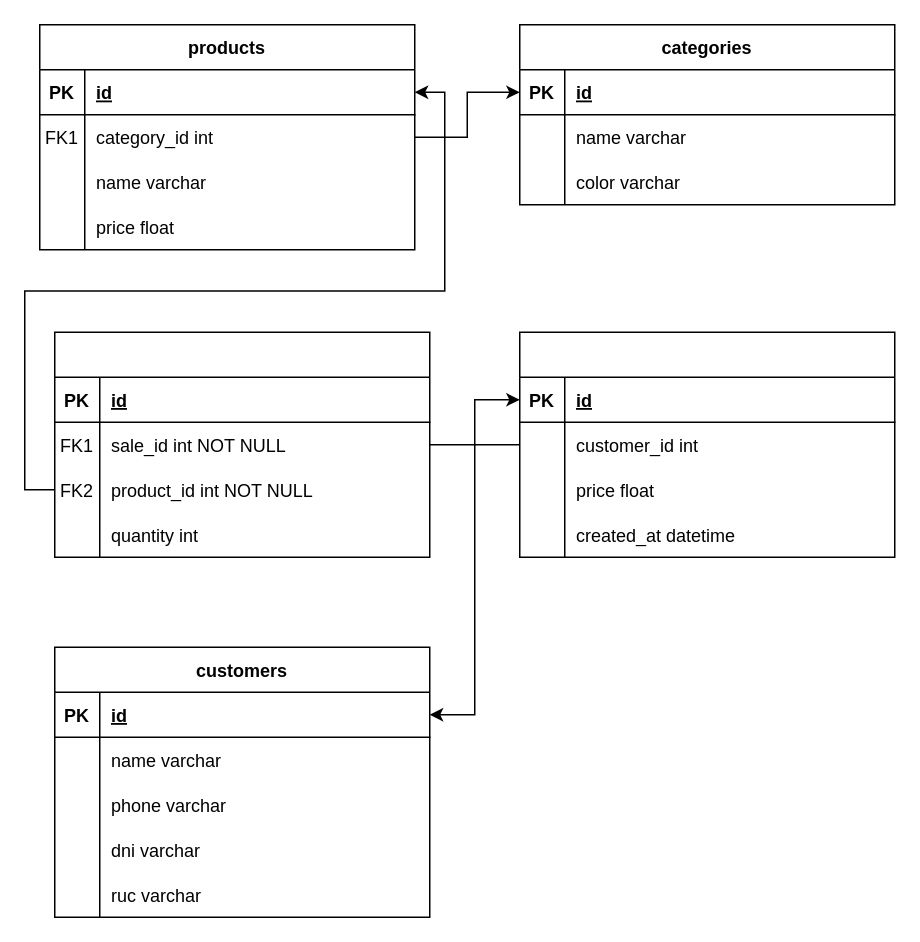
Some shapes in this 920 by 942 pixel diagram are drawn without their labels. Each missing label, with the box of its shape:
sales: (518, 331, 895, 557)
sales_products: (53, 331, 430, 557)
